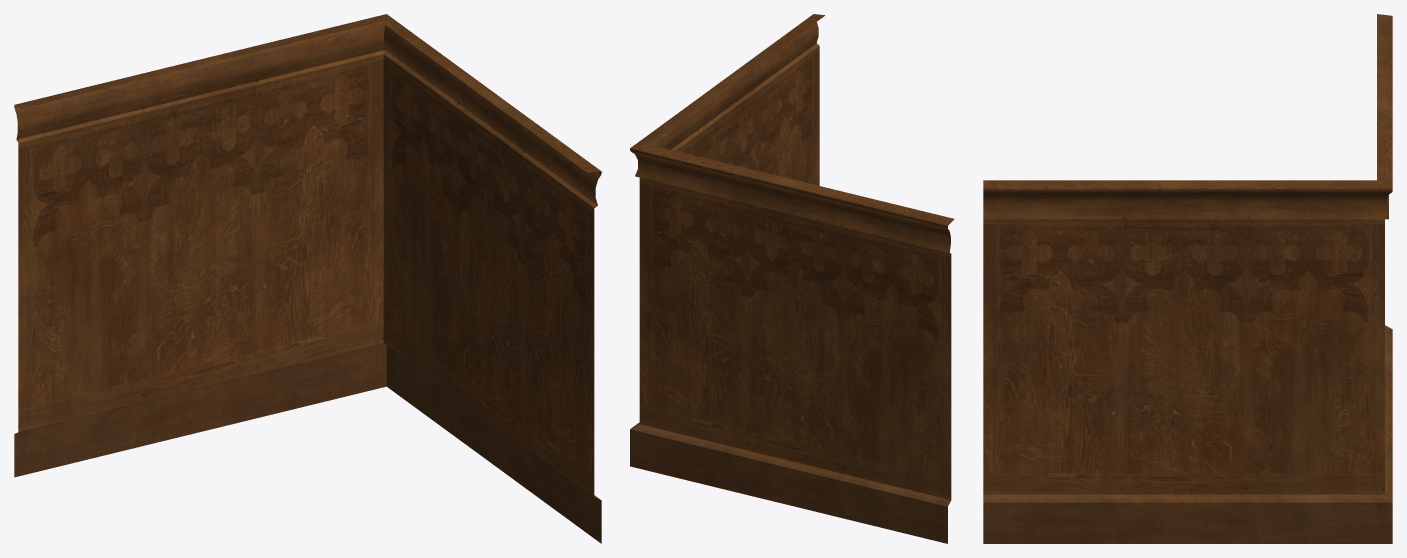
File: SM_Wallbar_Carv_down_01.fbx
3 views of the same model, side by side, from view 1: azimuth 30°, elevation 25°; view 2: azimuth 150°, elevation 25°; view 3: azimuth 270°, elevation 25° (orthographic). The views are drawn at different scales.
Visible parts, largest first — view 1: SM_Wallbar_Carv_down_01; view 2: SM_Wallbar_Carv_down_01; view 3: SM_Wallbar_Carv_down_01.
Boxes of the visible parts, bbox=[...] form: SM_Wallbar_Carv_down_01: bbox=[14, 14, 601, 543]; SM_Wallbar_Carv_down_01: bbox=[630, 14, 954, 543]; SM_Wallbar_Carv_down_01: bbox=[983, 14, 1392, 543].
Bounding box in the file's own units: 104 × 100 × 104.
